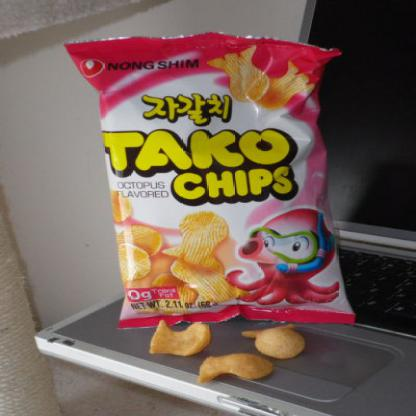potatochip: (48, 25, 364, 333)
